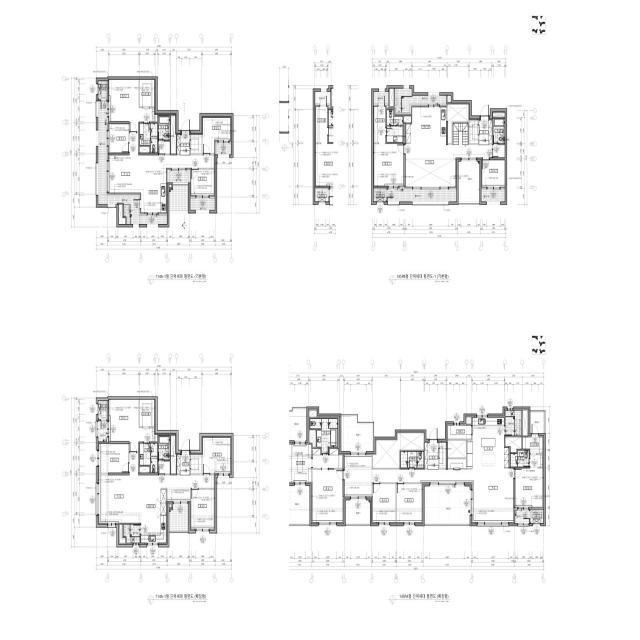space_balconi: (98, 101, 167, 224), (425, 486, 470, 524), (395, 89, 446, 112), (341, 416, 374, 451), (388, 189, 457, 202), (458, 162, 479, 202), (346, 500, 370, 524), (169, 186, 188, 211), (169, 506, 188, 531), (506, 411, 521, 435), (123, 525, 140, 543), (190, 198, 215, 210), (530, 412, 544, 433), (481, 190, 505, 202), (169, 171, 188, 183), (373, 92, 389, 106), (515, 510, 529, 524), (216, 143, 231, 155), (98, 421, 107, 441)
space_bedroom: (109, 400, 154, 452), (109, 80, 154, 132), (312, 470, 343, 522), (515, 454, 543, 507), (374, 144, 404, 186), (203, 437, 231, 473), (203, 117, 231, 153), (397, 484, 422, 522), (191, 490, 215, 529), (373, 484, 396, 522), (99, 444, 128, 473), (191, 170, 215, 196), (482, 160, 505, 187), (109, 124, 128, 153)
space_dressroom: (289, 444, 311, 482), (374, 107, 386, 144), (140, 80, 155, 107), (140, 400, 155, 427), (523, 437, 543, 454)
space_front: (425, 443, 439, 469), (479, 120, 492, 145), (177, 133, 190, 155), (177, 455, 190, 475)
space_kitchen: (467, 418, 509, 468), (406, 107, 446, 143), (141, 489, 166, 543), (141, 170, 166, 213)
space_living_room: (344, 455, 514, 522), (99, 453, 215, 523), (107, 132, 215, 194), (405, 144, 492, 187)
space_other: (373, 433, 424, 468), (447, 104, 469, 143), (313, 449, 343, 468), (453, 123, 469, 145), (448, 425, 472, 439), (448, 440, 466, 458), (167, 488, 190, 501), (505, 437, 522, 452), (469, 120, 478, 144), (191, 134, 202, 153), (191, 455, 202, 473), (171, 116, 176, 154), (171, 436, 176, 474), (448, 459, 466, 468), (158, 461, 170, 474), (493, 145, 505, 158), (158, 141, 170, 154), (440, 443, 446, 468), (523, 410, 528, 436), (309, 430, 316, 447), (119, 525, 125, 544), (119, 205, 125, 224), (390, 89, 394, 106), (139, 147, 149, 153), (404, 116, 411, 123), (493, 113, 505, 117), (309, 411, 316, 417), (466, 417, 471, 424), (447, 96, 451, 102), (155, 434, 157, 442), (155, 114, 157, 122), (169, 504, 171, 507), (169, 185, 171, 187)
space_outdoor_room: (373, 188, 387, 202), (98, 81, 107, 100), (98, 401, 107, 420), (530, 510, 543, 523)
space_toilet: (310, 419, 337, 453), (139, 443, 157, 473), (387, 110, 403, 142), (140, 124, 157, 153), (401, 452, 424, 468), (511, 451, 529, 467), (158, 436, 170, 460), (493, 119, 505, 143), (158, 116, 170, 140)
